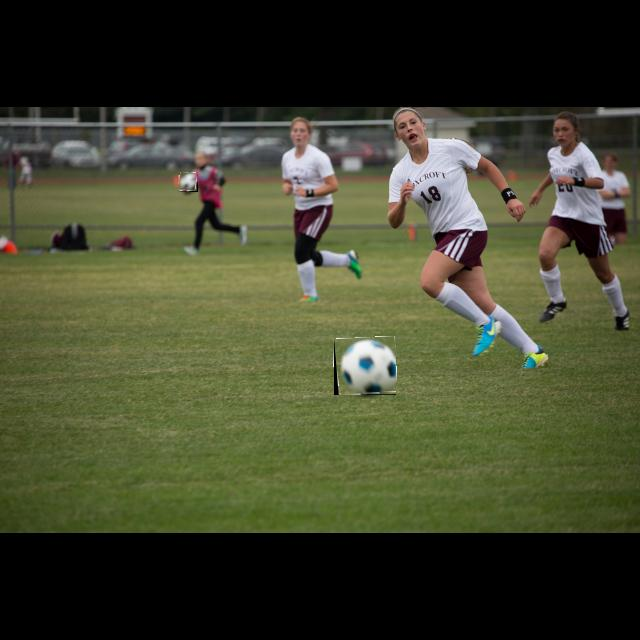Football: (334, 337, 396, 395), (178, 172, 198, 192)
